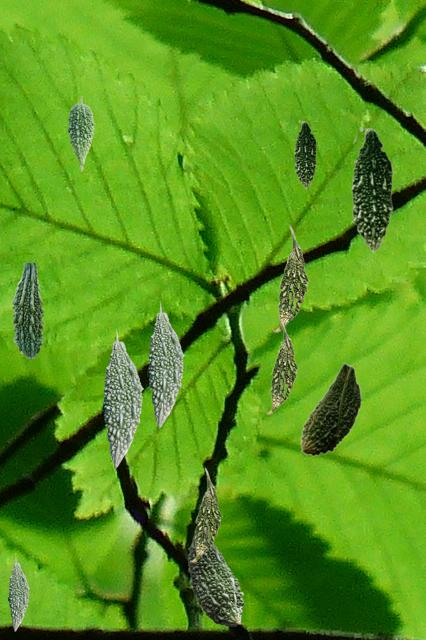ampalaya: (300, 363, 361, 455), (351, 126, 395, 252), (102, 329, 142, 467), (188, 533, 243, 625), (147, 301, 183, 427), (273, 225, 308, 331), (11, 263, 43, 357), (266, 319, 297, 413), (190, 467, 221, 561), (67, 96, 93, 170), (294, 120, 317, 188), (8, 556, 28, 630)
